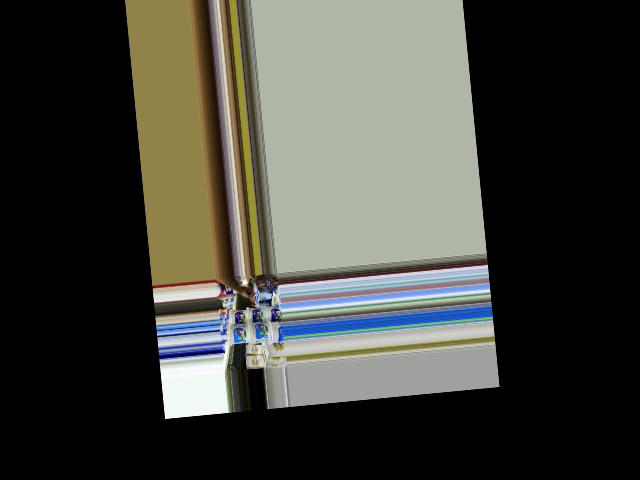cotage: (246, 306, 267, 325)
